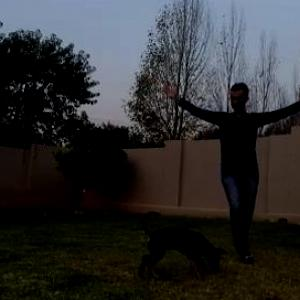takeoff: (157, 72, 299, 268)
